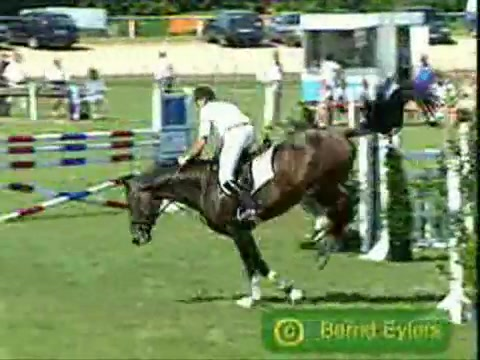horse: (123, 130, 362, 310)
